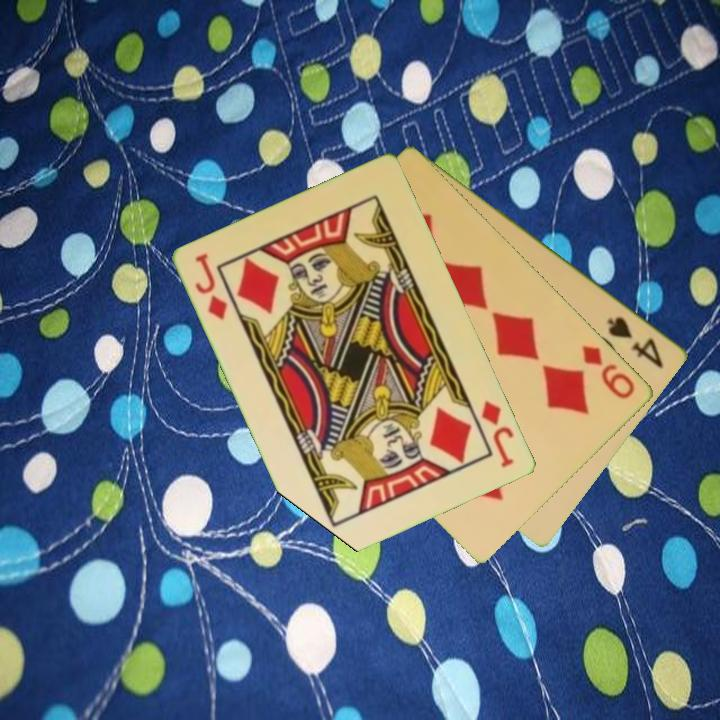4s: (604, 313, 667, 371)
9d: (578, 341, 639, 402)
Jd: (478, 397, 518, 471), (192, 250, 231, 324)
